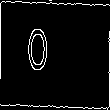O_S: (44, 28, 66, 82)
